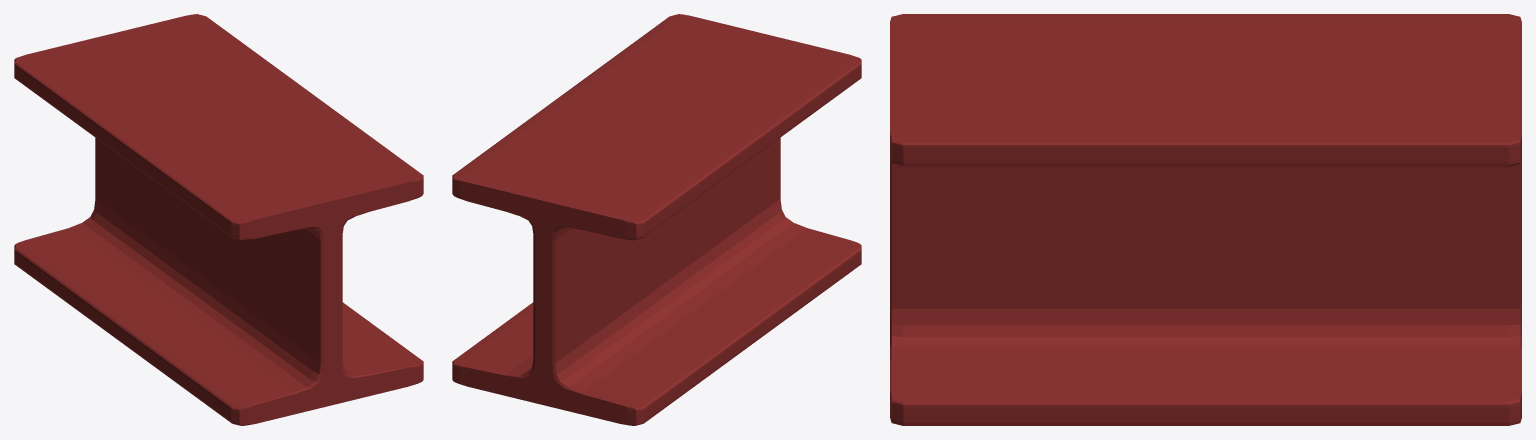
Rendered from steel_straight_2.fbx.
The picture shows the model from 3 angles, left to right: view 1: azimuth 30°, elevation 25°; view 2: azimuth 150°, elevation 25°; view 3: azimuth 270°, elevation 25°; orthographic projection. The views are drawn at different scales.
Visible parts, largest first — view 1: Cube; view 2: Cube; view 3: Cube.
Boxes of the visible parts, left/top/right/bottom form: Cube: left=14, top=14, right=423, bottom=425; Cube: left=452, top=14, right=861, bottom=425; Cube: left=890, top=14, right=1521, bottom=425.
Bounding box in the file's own units: 98.18 × 99.55 × 200.
